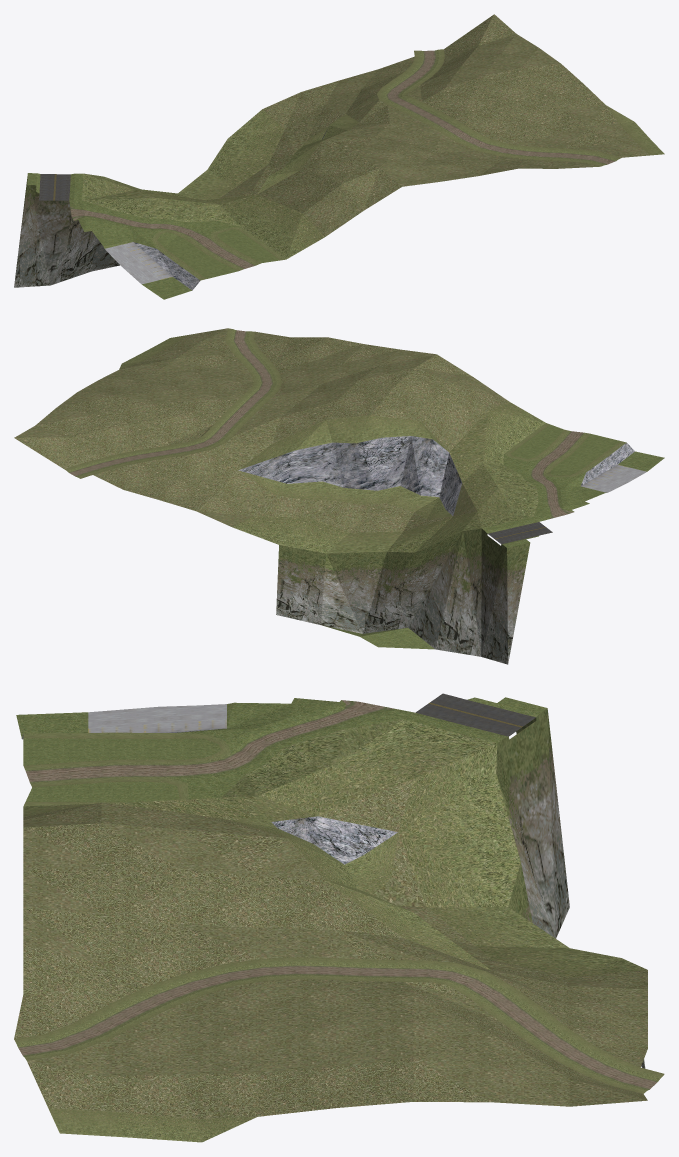
File: sw_bit_02.obj
3 views of the same model, one above another, from view 1: azimuth 30°, elevation 25°; view 2: azimuth 150°, elevation 25°; view 3: azimuth 270°, elevation 25° (orthographic). The views are drawn at different scales.
Visible parts, largest first — view 1: sw_bit_02; view 2: sw_bit_02; view 3: sw_bit_02.
Boxes of the visible parts, <box> form: sw_bit_02: <box>14,14,664,299</box>; sw_bit_02: <box>14,328,664,664</box>; sw_bit_02: <box>14,693,664,1142</box>.
Size of the model in its own units: 241 by 73.9 by 147.
Materials: 11 (11 with a texture image).
